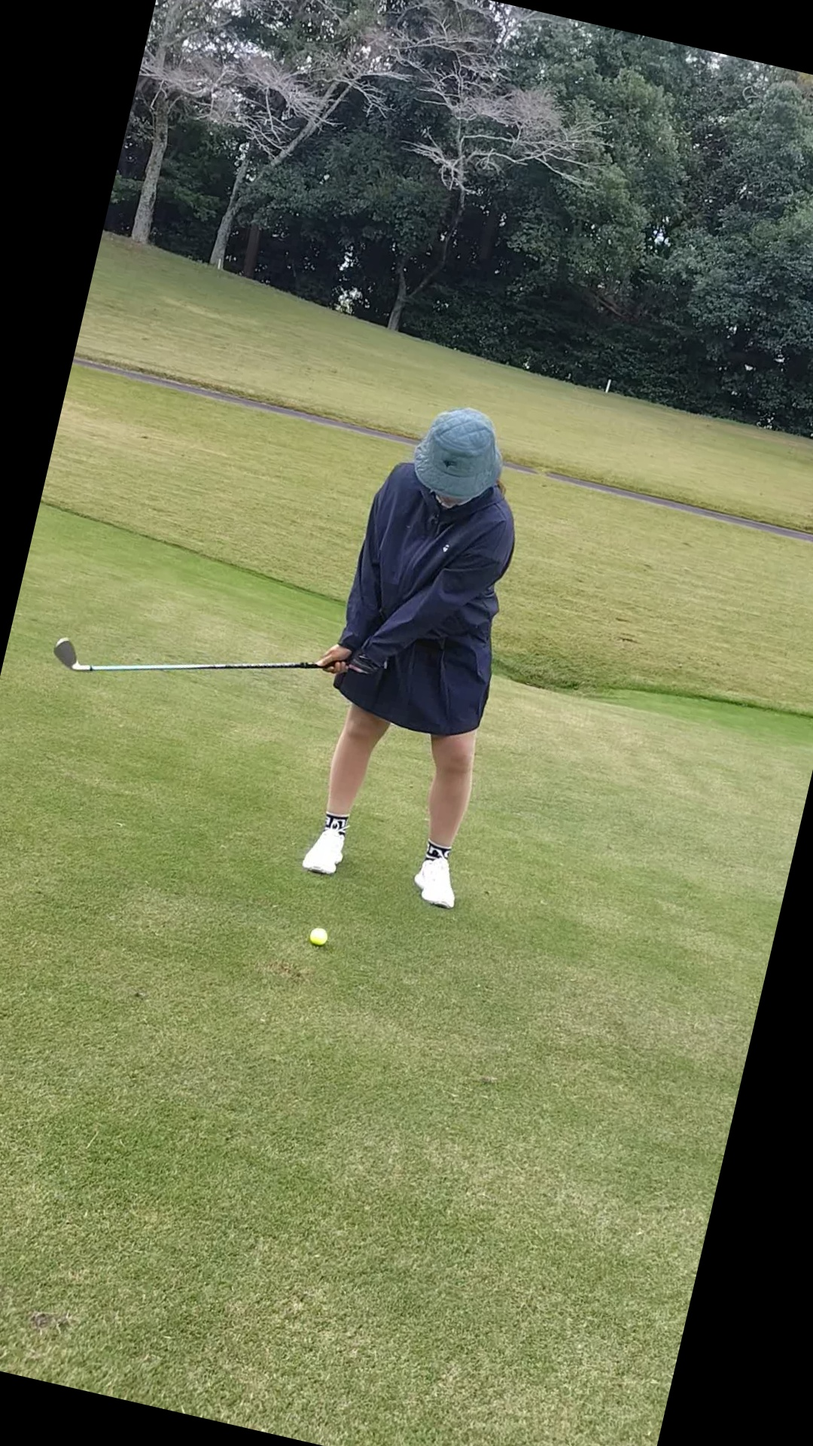clubhead: (0, 585, 168, 782)
